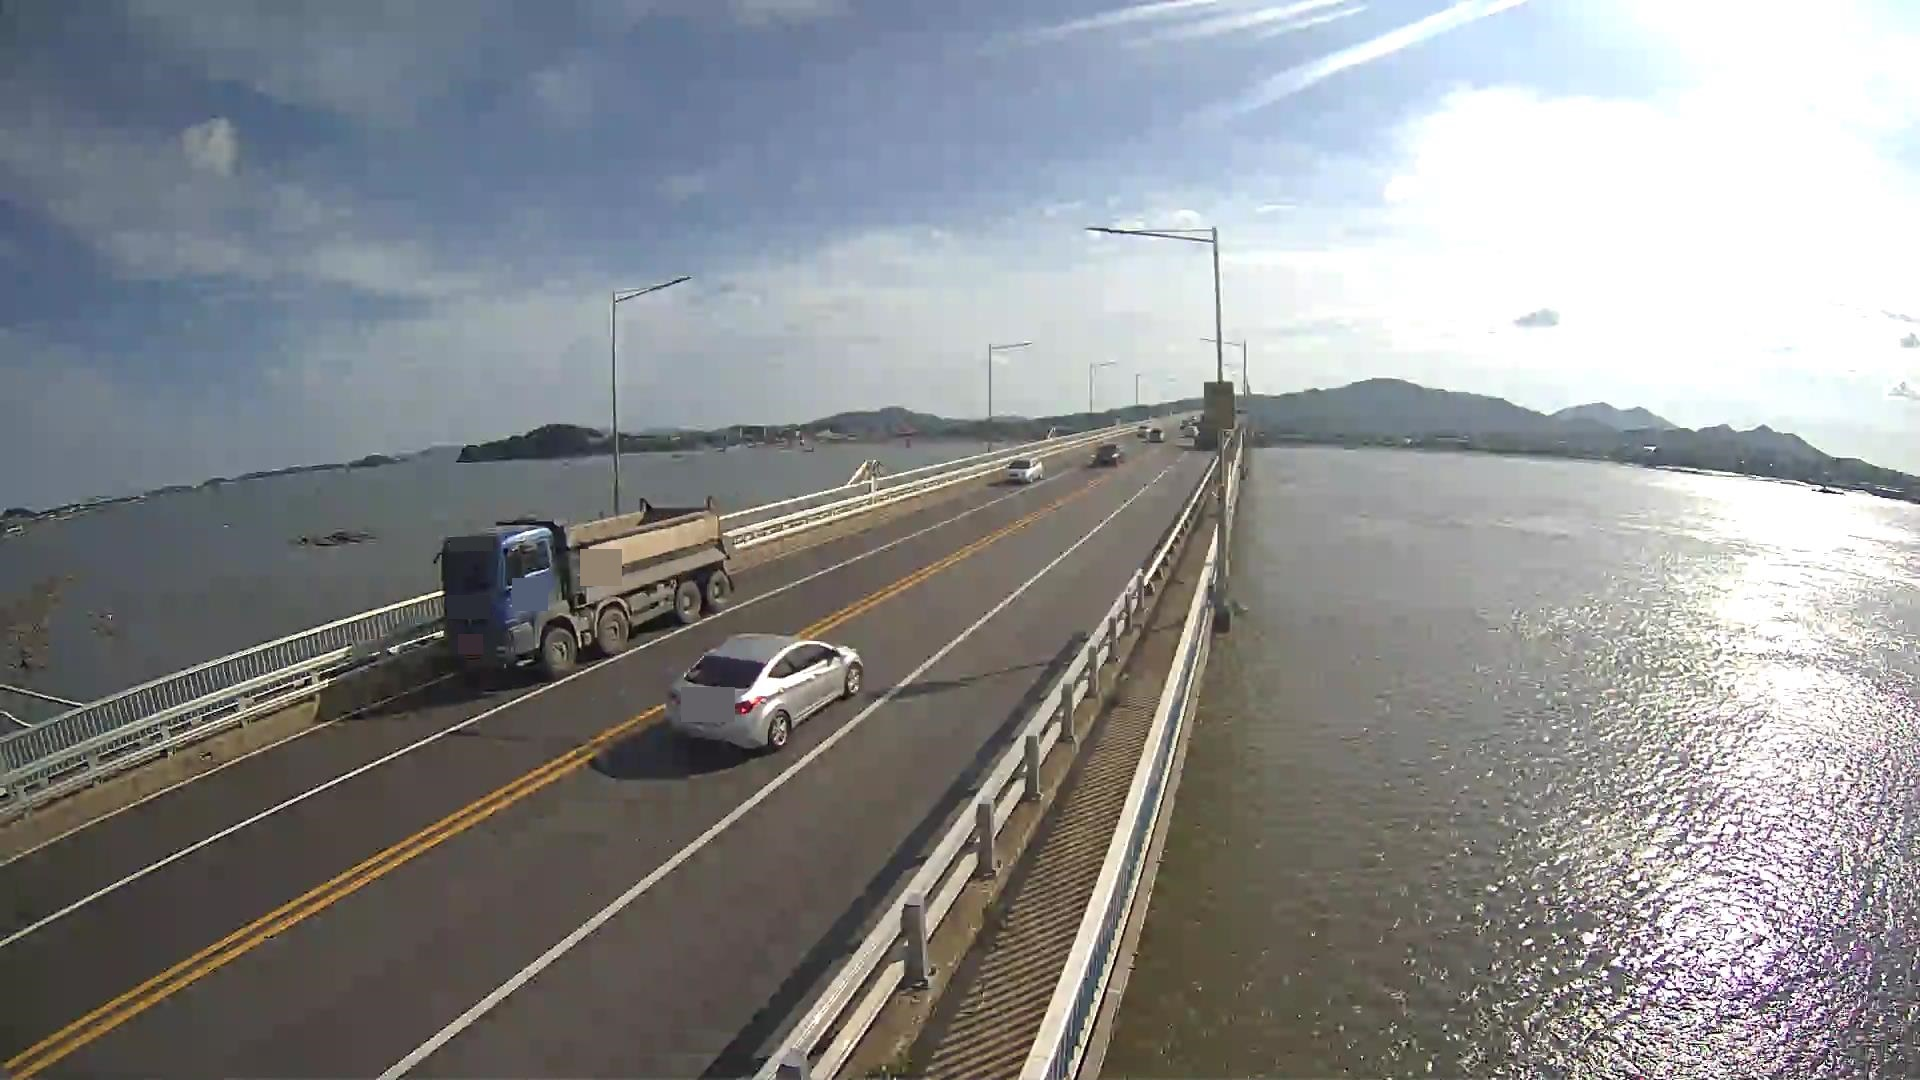정상차량: (433, 496, 735, 682)
